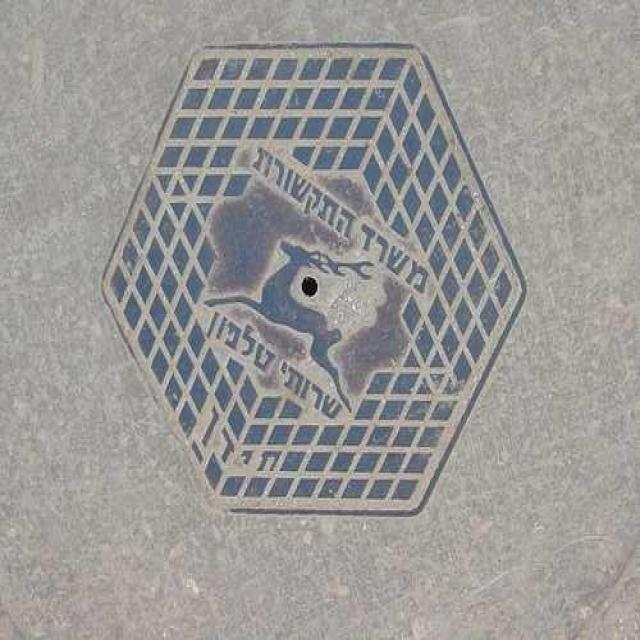manhole: (104, 43, 525, 514)
